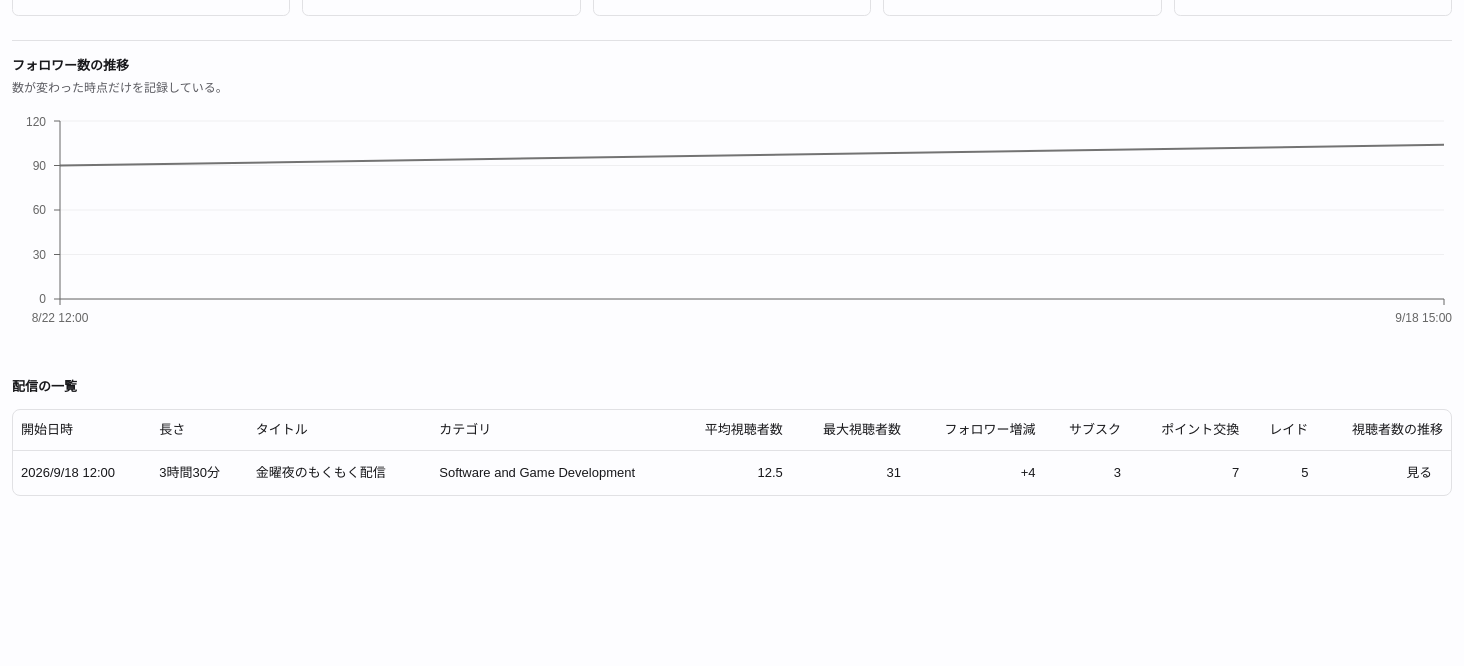
Scenario: 配信ごとの詳細（視聴者数の推移と話されたこと） › 配信を選ぶと、その配信の推移を読み込んで出す
This screenshot has width=1464, height=666.
Expected: the table named "配信の一覧" is shown, [13,410,1451,495]
Click the button with aria-label "金曜夜のもくもく配信 の詳細を見る".
click(1419, 473)  # box [1395,459,1443,487]
(page scrolled)
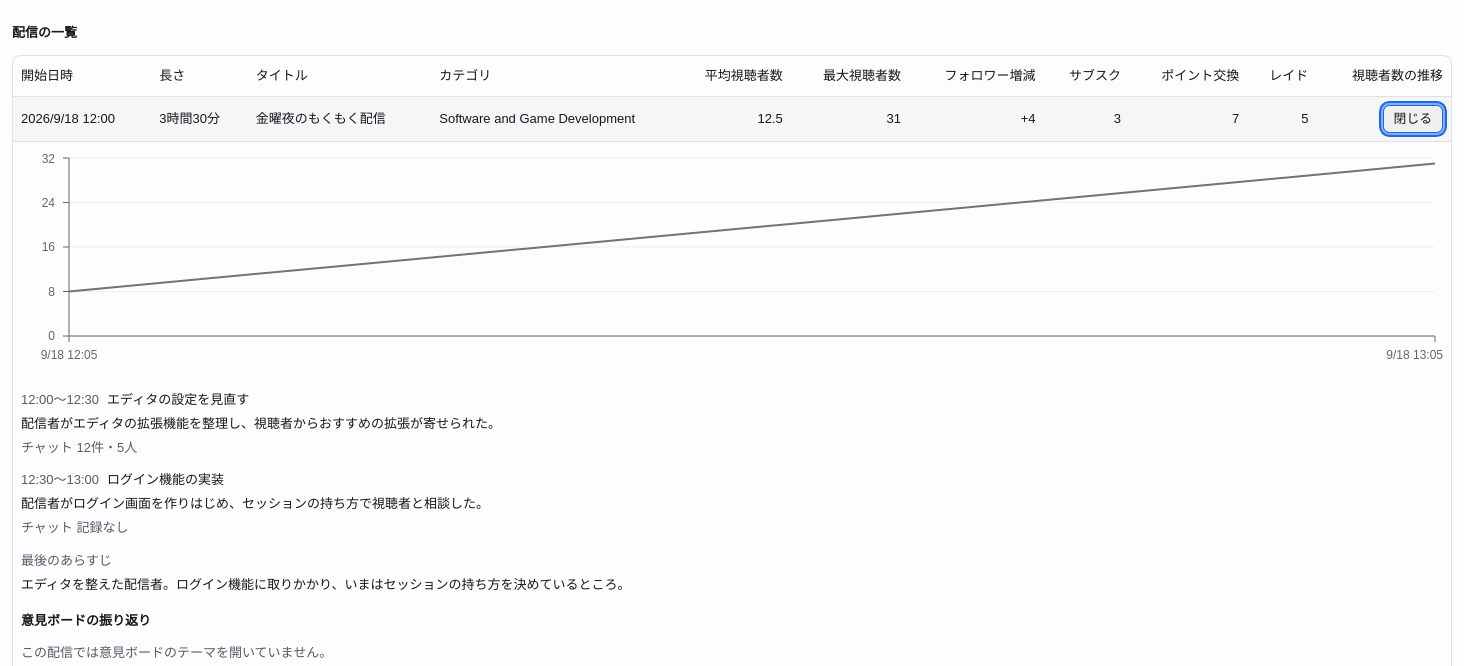
Expected: the picture named "金曜夜のもくもく配信 の視聴者数の推移" is shown, [21,150,1443,374]
